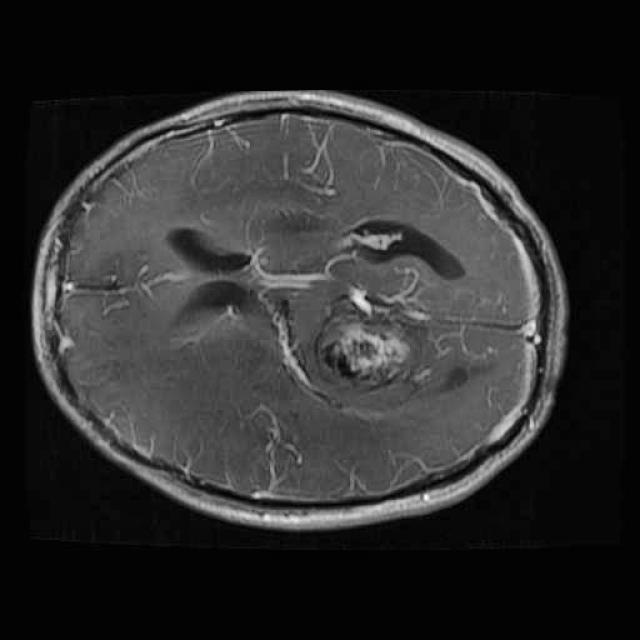Non-Tumor: (289, 265, 444, 420)
